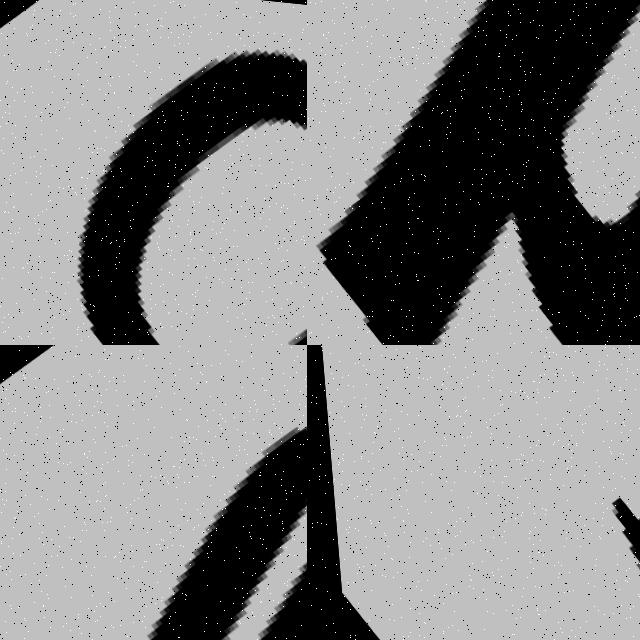D: (0, 0, 307, 345)
H: (309, 0, 640, 345)
I: (340, 345, 640, 640)
Q: (0, 345, 307, 640)
